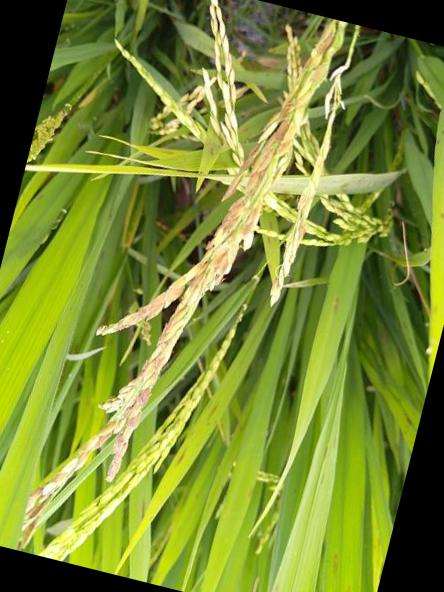Panicle Blight: (29, 71, 312, 521), (271, 179, 316, 305), (311, 20, 336, 89)
